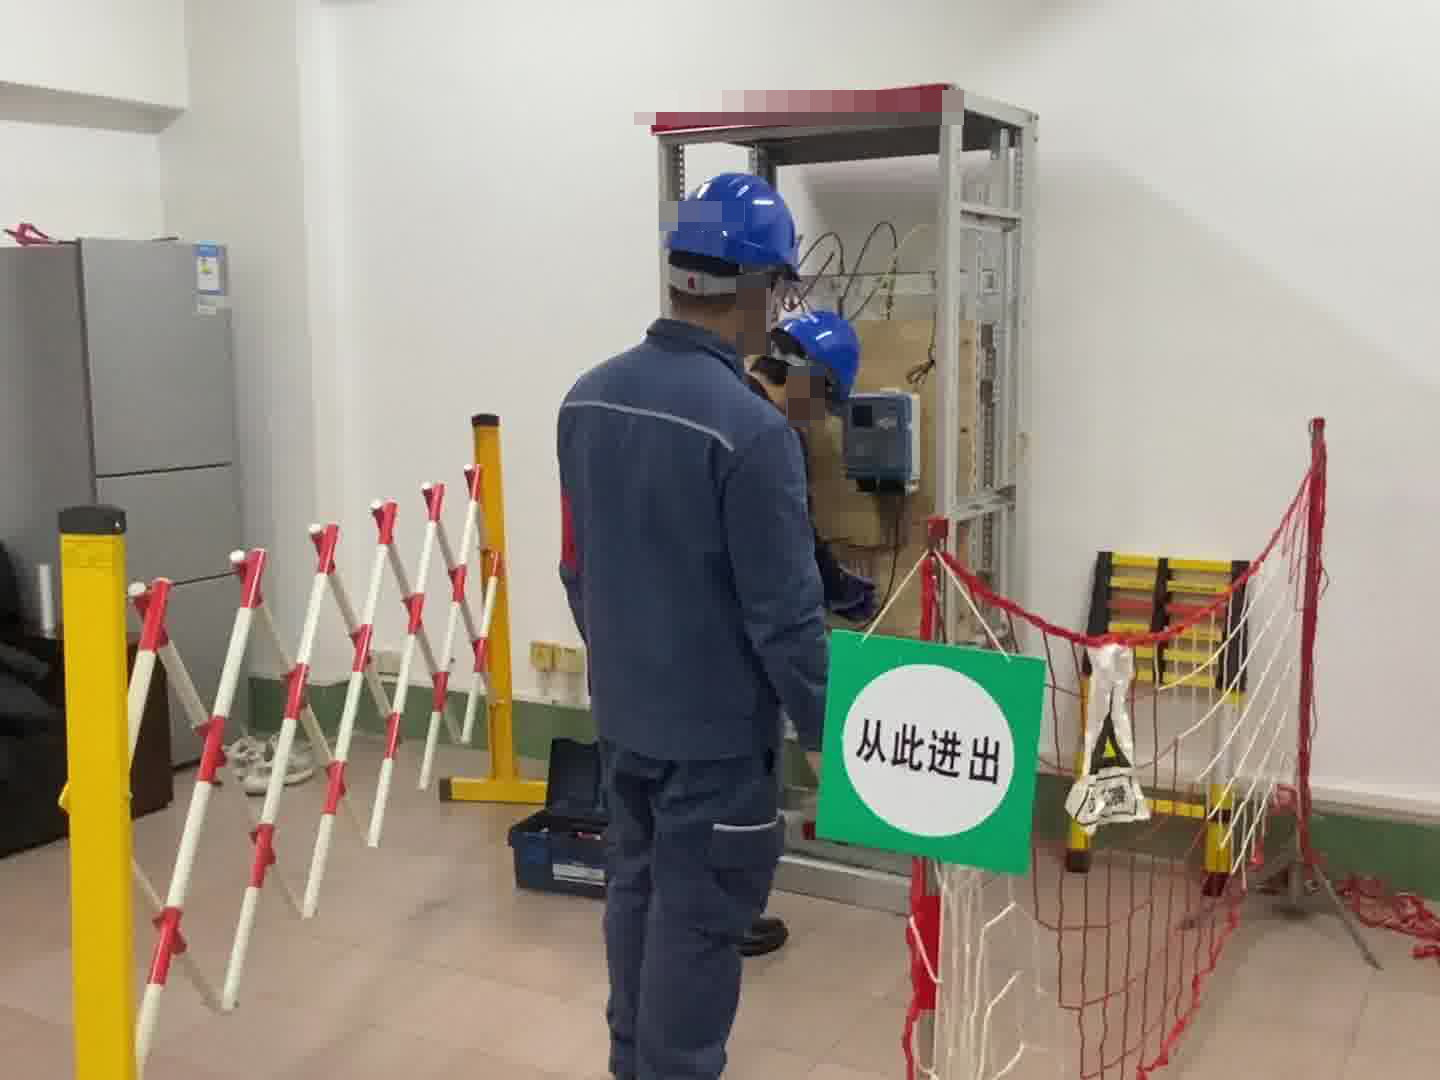badge: (555, 485, 581, 575)
downsuit: (595, 762, 778, 1080)
glove: (816, 549, 878, 628)
halt: (656, 167, 801, 344), (746, 309, 862, 418)
inear: (742, 265, 776, 339), (783, 359, 823, 416)
intosign: (809, 616, 1054, 880)
person: (549, 171, 827, 1080), (744, 306, 886, 627)
upsuit: (554, 331, 824, 757)
